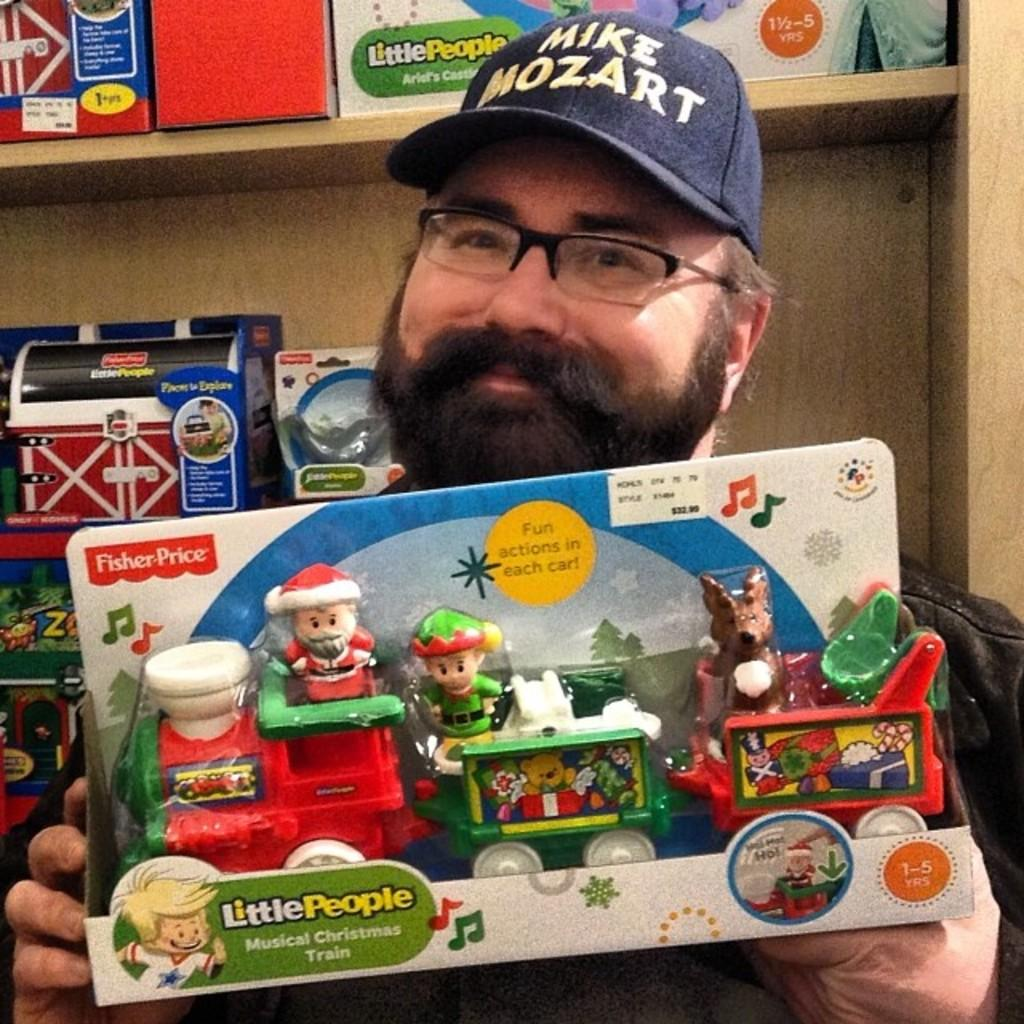Hat: (384, 6, 760, 272)
